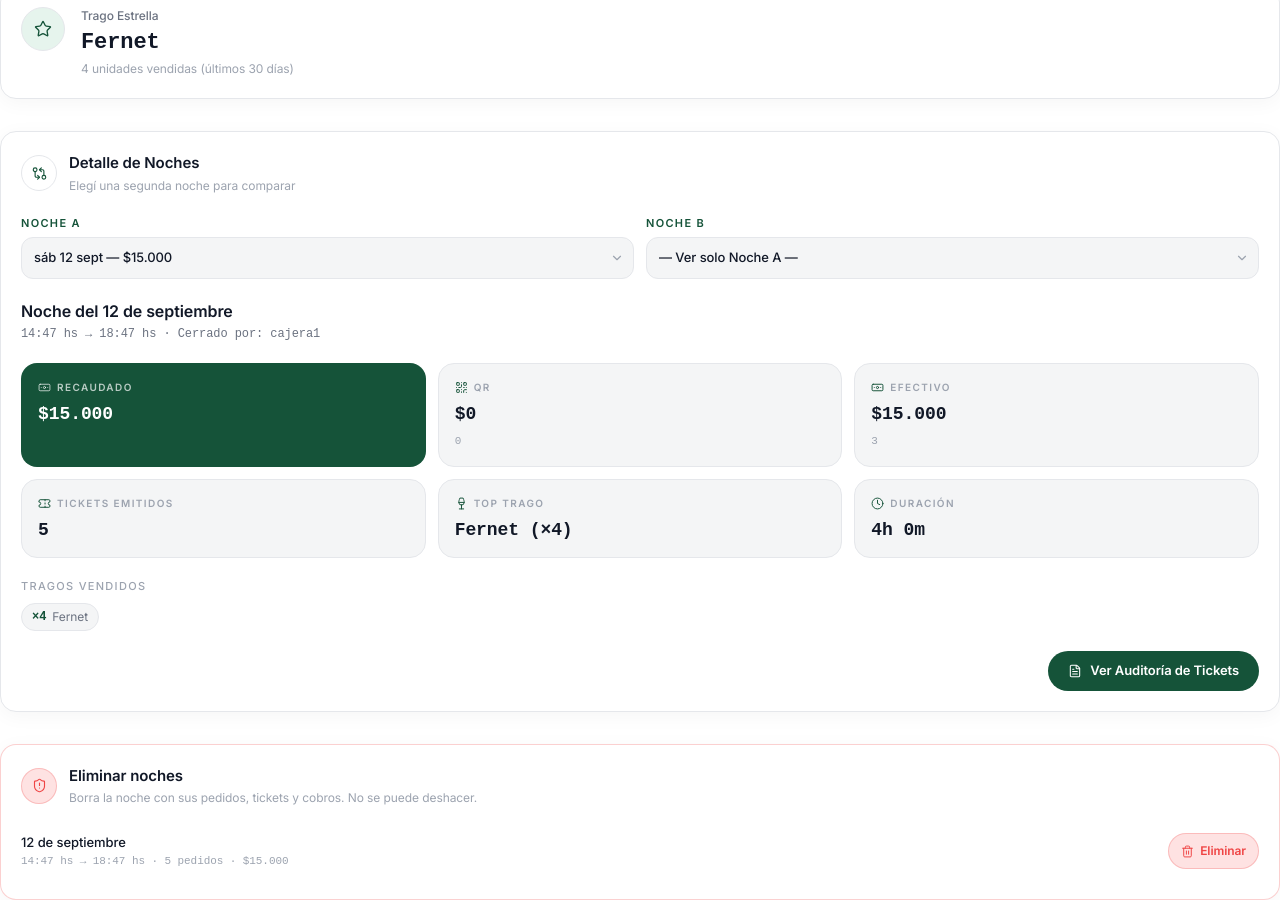
HistorialSection › eliminar noche (D1) › la confirmación muestra qué se pierde y advierte de los cobros MP
(page scrolled)
Click the button with aria-label "Eliminar la noche del": {"x": 1214, "y": 851} [1168,833,1259,869]
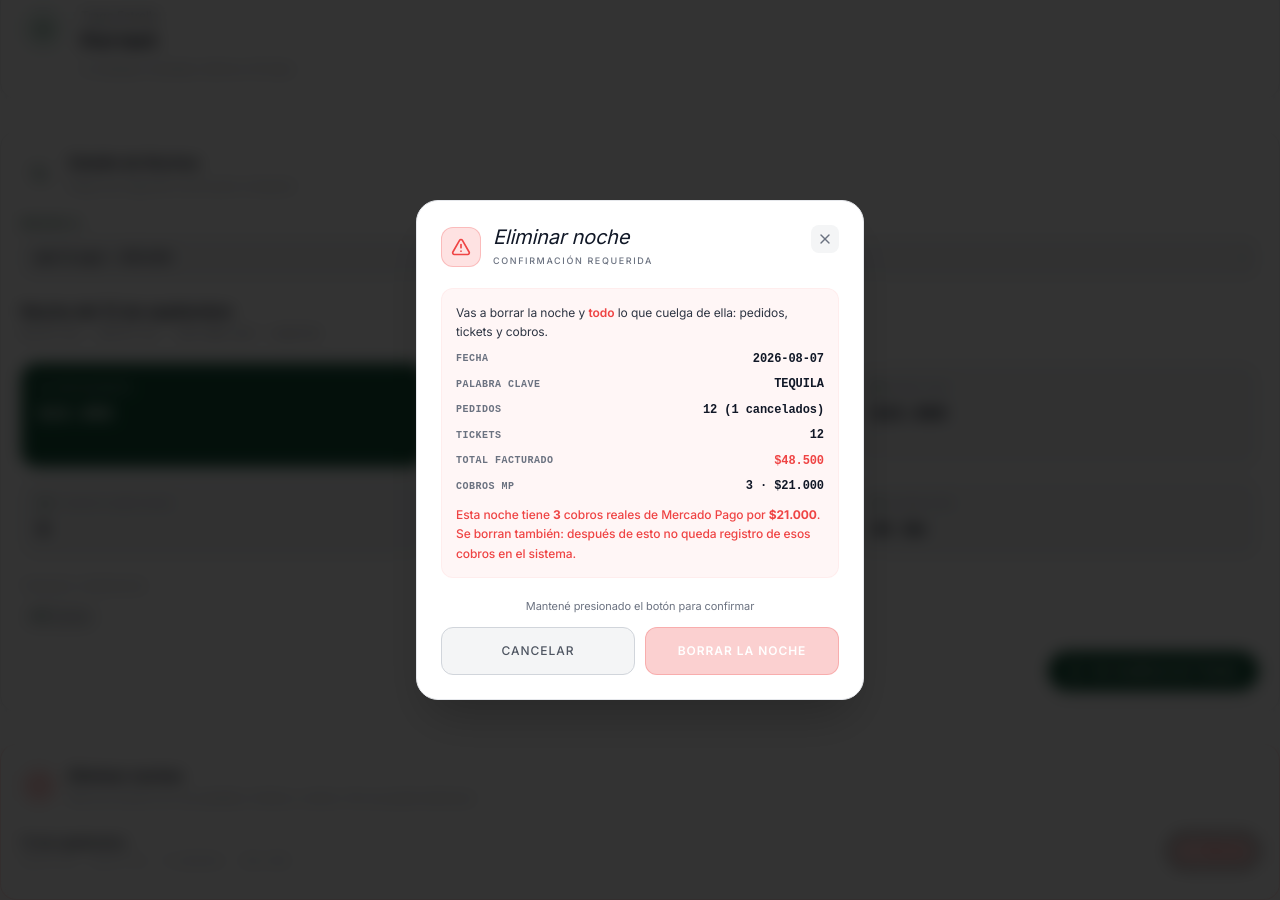
Check: the text "Total facturado" is shown, box [456,453,554,470]
Check: the text "$48.500" is shown, box [774,452,824,471]
Check: the text "12 (1 cancelados)" is shown, box [703,401,824,420]
